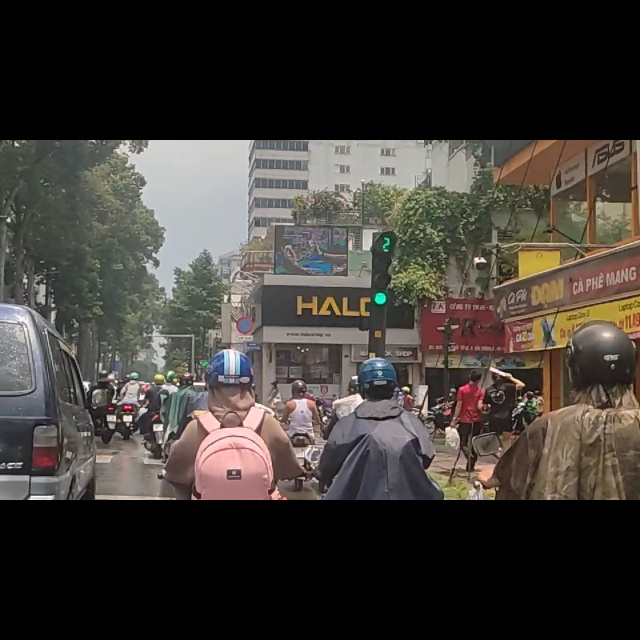bien_cam: (235, 312, 255, 348)
